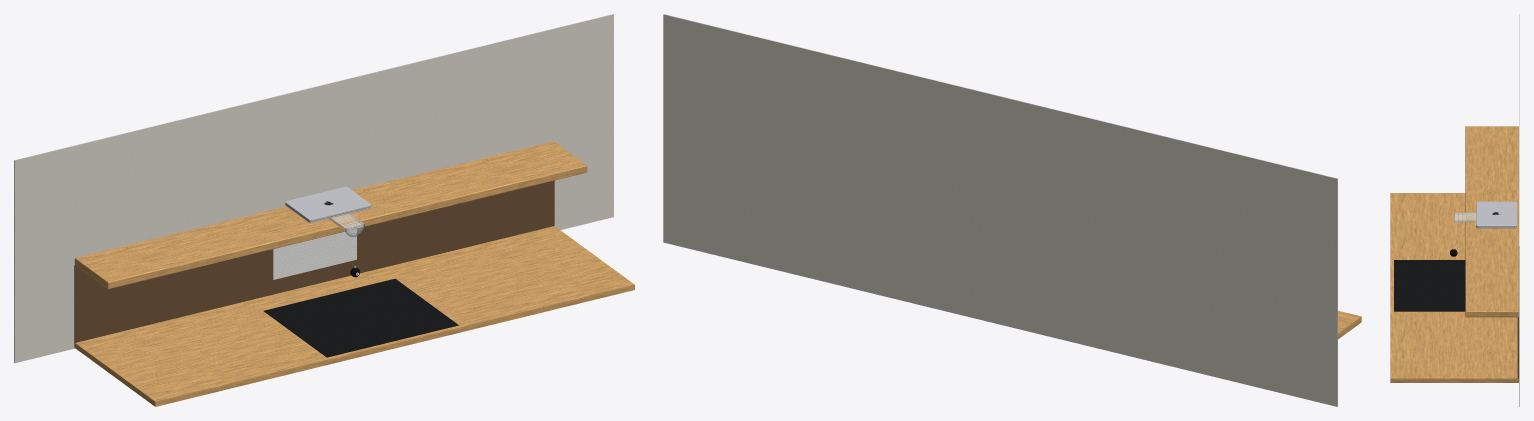
File: pendulum.glb
3 renders of one model, left to right at view 1: azimuth 30°, elevation 25°; view 2: azimuth 150°, elevation 25°; view 3: azimuth 270°, elevation 25°, orthographic. The views are drawn at different scales.
Visible parts, largest first — view 1: Wall, Desk, HutchBack, Shelf, Mat, Paper, Laptop; view 2: Wall; view 3: Desk, Shelf, Mat, Laptop, Wall, WristRest.
Boxes of the visible parts, x1,y1,x2,y2 form: Wall: (14,14,613,363); Desk: (74,226,634,406); HutchBack: (74,180,554,342); Shelf: (74,141,587,289); Mat: (264,278,458,357); Paper: (273,229,356,279); Laptop: (285,186,371,222); Wall: (663,14,1337,406); Desk: (1390,193,1518,382); Shelf: (1465,126,1518,317); Mat: (1394,260,1465,311); Laptop: (1476,201,1516,228); Wall: (1519,14,1519,406); WristRest: (1454,212,1476,222).
Size of the model in its own units: 3 by 0.97 by 0.706.
16 materials, 6 textured.
